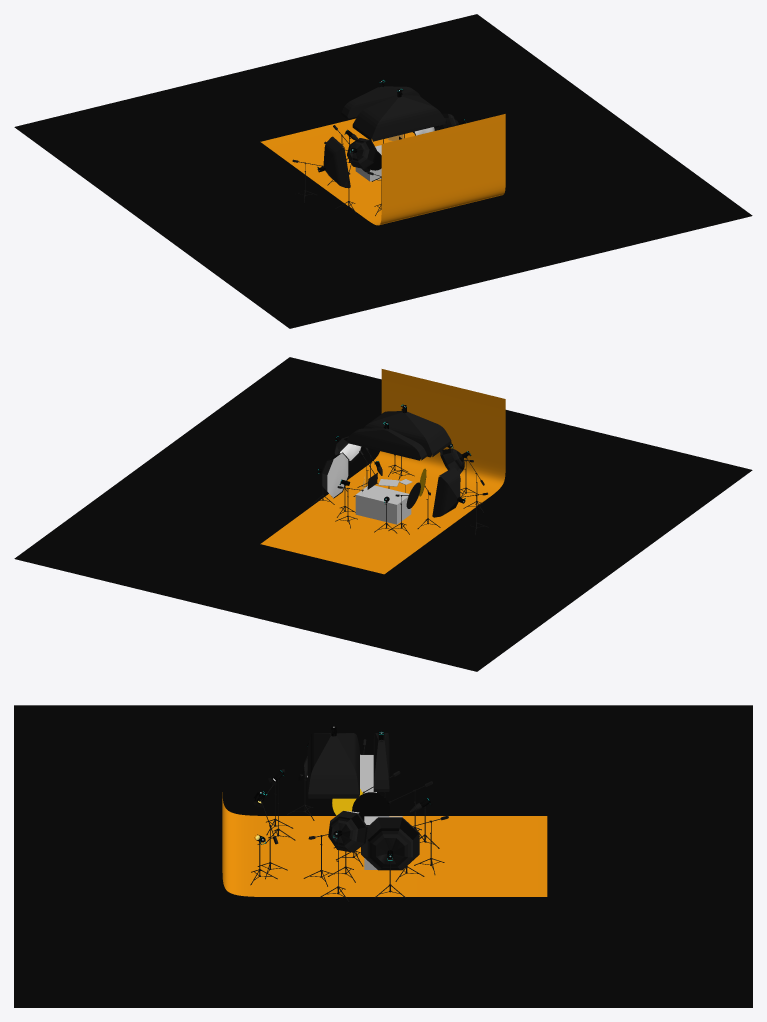
The model's file is studio.fbx.
The picture shows the model from 3 angles, top to bottom: view 1: azimuth 30°, elevation 25°; view 2: azimuth 150°, elevation 25°; view 3: azimuth 270°, elevation 25°; orthographic projection. The views are drawn at different scales.
Visible parts, largest first — view 1: Floor, BG, Box_Stripe, Box_Fill, Box_Stripe_2, Octabox_26__3; view 2: Floor, BG, Box_Stripe, Table, Box_Fill, Box_Stripe_2, Octabox_35__2; view 3: Floor, BG, Box_Stripe, Octabox_35__2, Octabox_26__2, Box_Fill, Reflector_silver, Box_Stripe_2.
Part boxes in pixels (<box>): Floor: <box>14,14,752,328</box>; BG: <box>260,114,505,225</box>; Box_Stripe: <box>352,95,446,141</box>; Box_Fill: <box>341,86,420,118</box>; Box_Stripe_2: <box>323,136,350,188</box>; Octabox_26__3: <box>347,138,376,168</box>; Floor: <box>14,357,752,671</box>; BG: <box>260,369,505,574</box>; Box_Stripe: <box>363,411,451,457</box>; Table: <box>355,485,411,524</box>; Box_Fill: <box>346,428,426,460</box>; Box_Stripe_2: <box>432,467,460,517</box>; Octabox_35__2: <box>321,452,349,498</box>; Floor: <box>14,705,752,1007</box>; BG: <box>222,792,547,896</box>; Box_Stripe: <box>307,733,359,798</box>; Octabox_35__2: <box>361,817,419,870</box>; Octabox_26__2: <box>328,811,367,852</box>; Box_Fill: <box>373,733,389,791</box>; Reflector_silver: <box>352,792,390,821</box>; Box_Stripe_2: <box>360,754,376,793</box>.
Bounding box in the file's own units: 11196 × 2216 × 11550.
